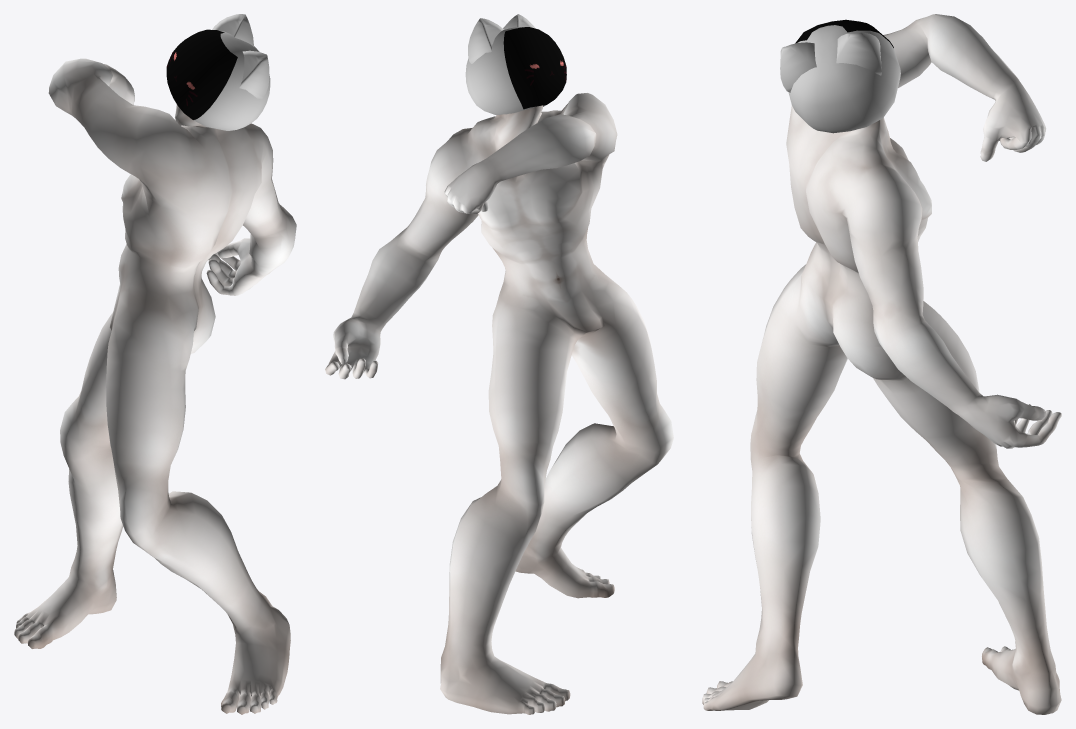
3 views of the same model, side by side, from view 1: azimuth 30°, elevation 25°; view 2: azimuth 150°, elevation 25°; view 3: azimuth 270°, elevation 25° (orthographic). The views are drawn at different scales.
Visible parts, largest first — view 1: Muscle_Body, Cat_Head, ______?001; view 2: Muscle_Body, Cat_Head, ______?001; view 3: Muscle_Body, Cat_Head, ______?001.
Boxes of the visible parts, <box> form: Muscle_Body: <box>14,58,296,714</box>; Cat_Head: <box>194,14,270,130</box>; ______?001: <box>166,29,237,119</box>; Muscle_Body: <box>325,93,673,714</box>; Cat_Head: <box>465,14,545,114</box>; ______?001: <box>503,27,566,109</box>; Muscle_Body: <box>702,14,1061,714</box>; Cat_Head: <box>780,25,900,133</box>; ______?001: <box>795,19,893,47</box>.
Size of the model in its own units: 11.15 by 27.83 by 12.75.
